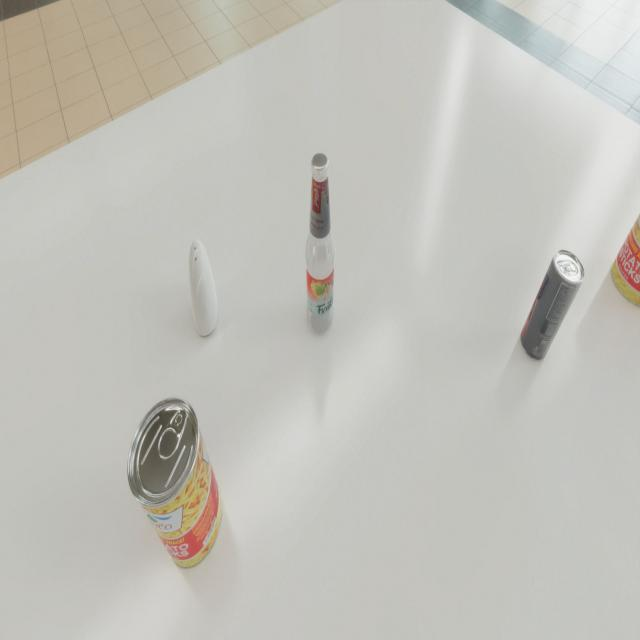Bottle: (304, 153, 336, 335)
Potato_sticks: (127, 397, 222, 569)
Rita_zero_sugar: (520, 249, 585, 361)
Salt: (188, 239, 218, 336)
